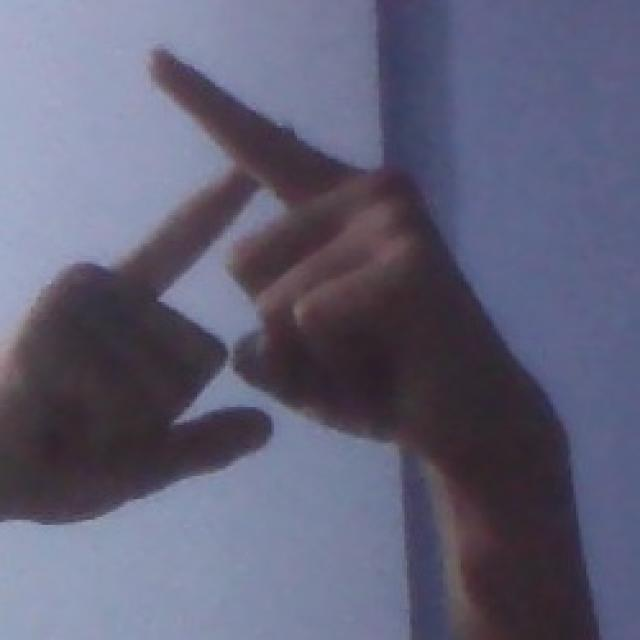Alphabet-X: (7, 41, 572, 544)
